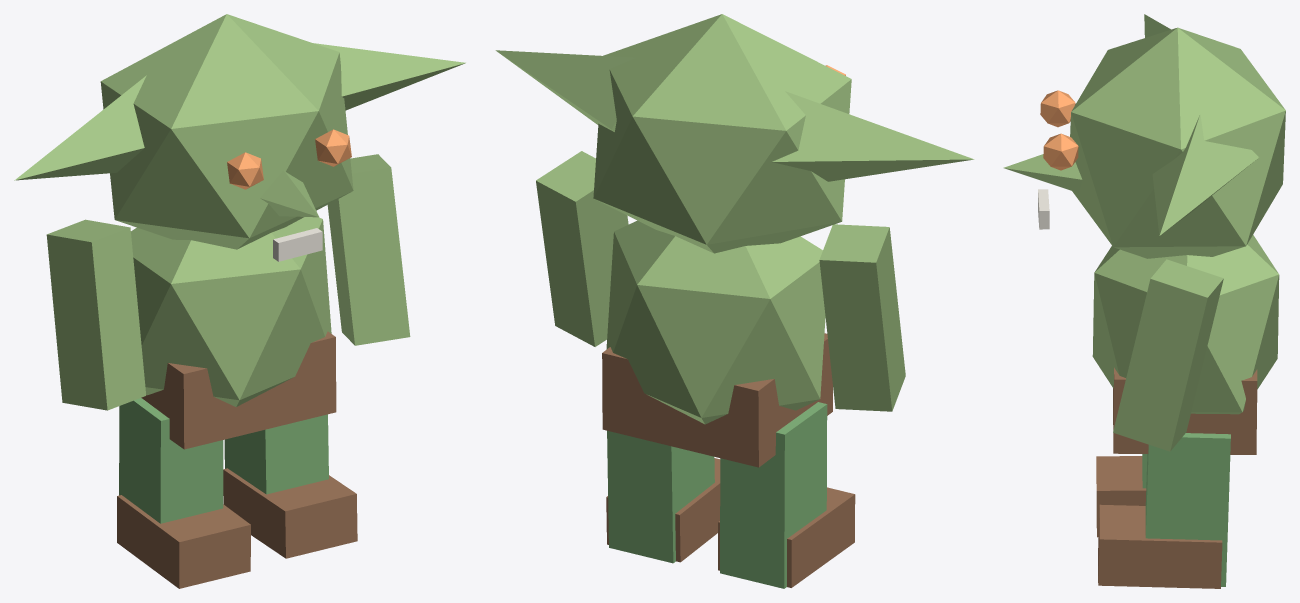
Rendered from npcpose_goblin_idle_11.glb.
3 renders of one model, left to right at view 1: azimuth 30°, elevation 25°; view 2: azimuth 150°, elevation 25°; view 3: azimuth 270°, elevation 25°, orthographic. The views are drawn at different scales.
Parts seen in each view (by area): view 1: npcpose; view 2: npcpose; view 3: npcpose.
Boxes of the visible parts, x1=… form: npcpose: x1=14, y1=14, x2=465, y2=588; npcpose: x1=495, y1=14, x2=974, y2=588; npcpose: x1=1003, y1=14, x2=1285, y2=588.
Bounding box in the file's own units: 1.03 × 1.12 × 0.5529.
